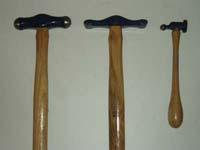hammer: (12, 12, 71, 149)
